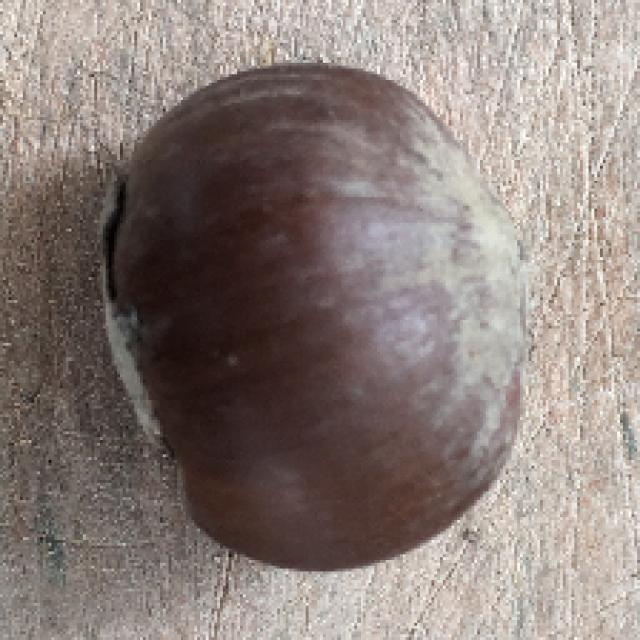DamagedHazelnut: (99, 71, 538, 570)
